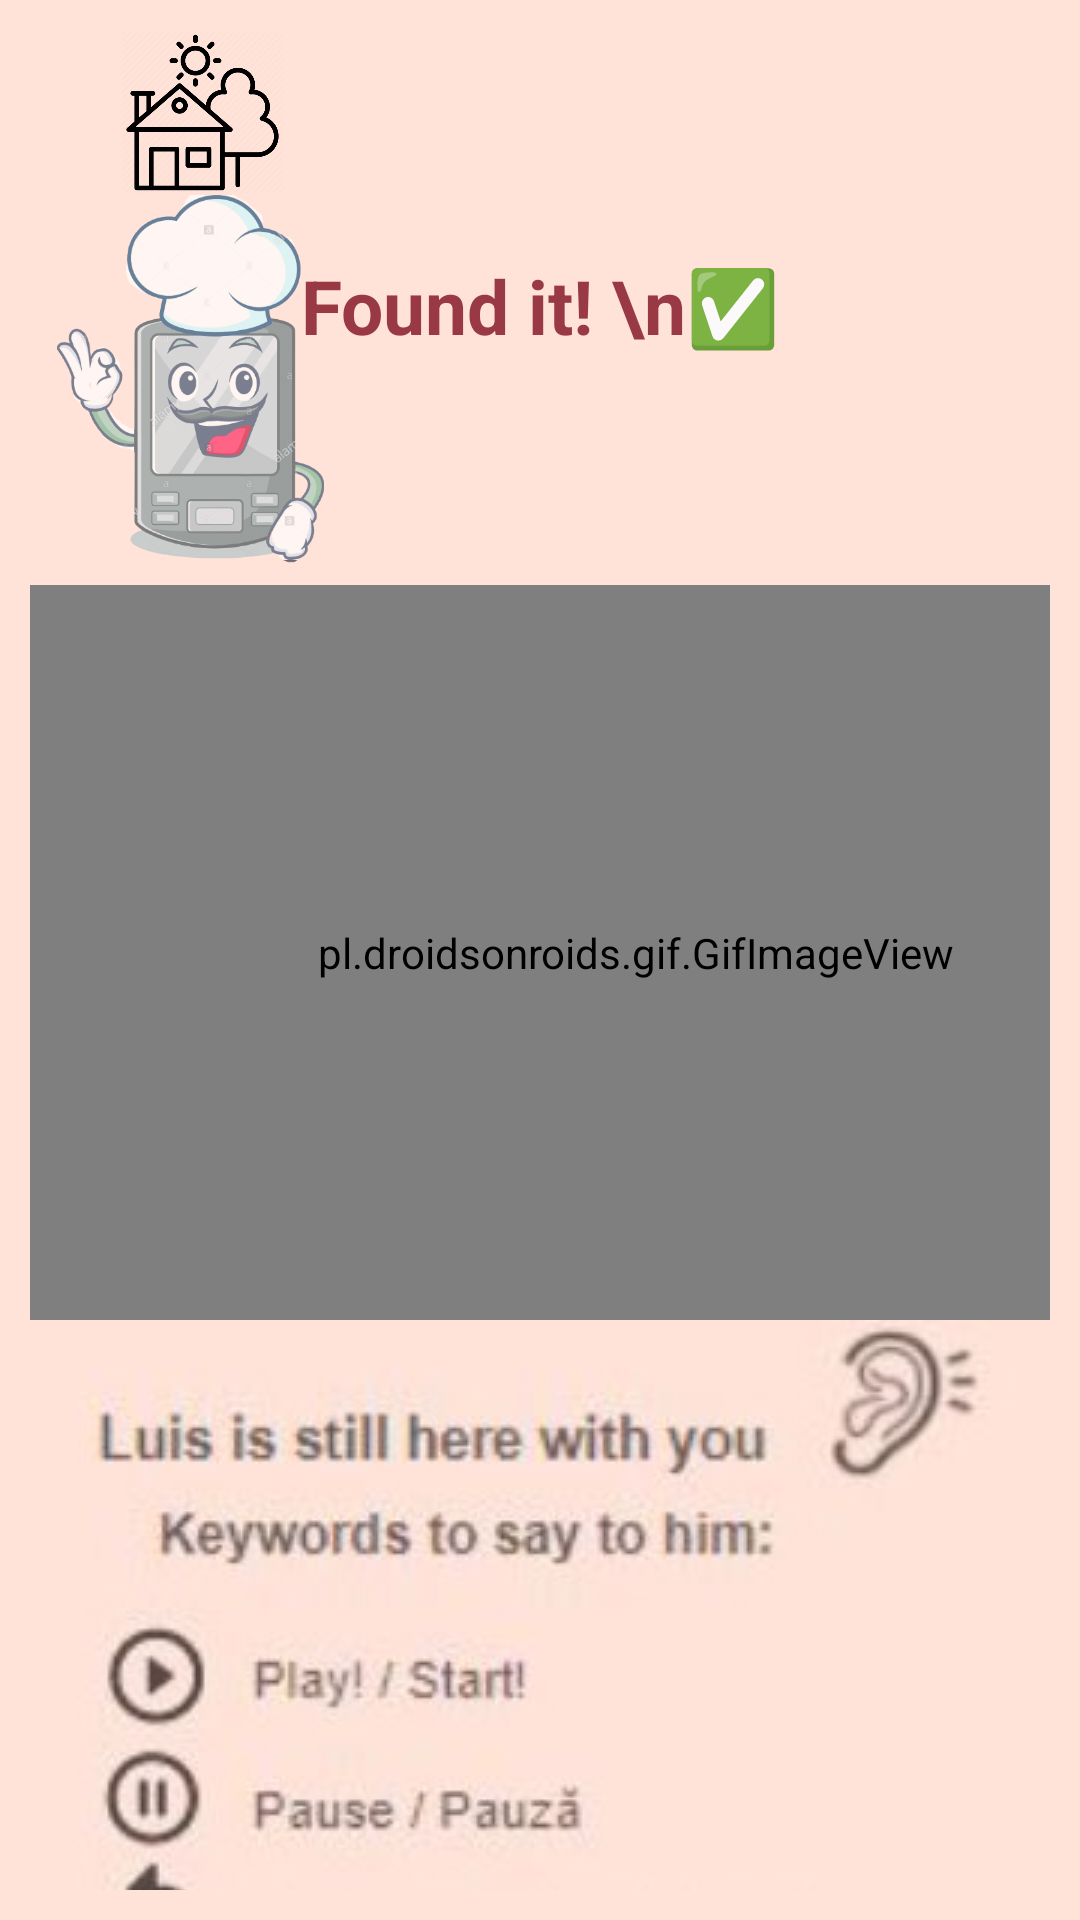

Icon click points for this 1080 x 1920 phone screenshot, format [x,y]:
house: [202,112]
